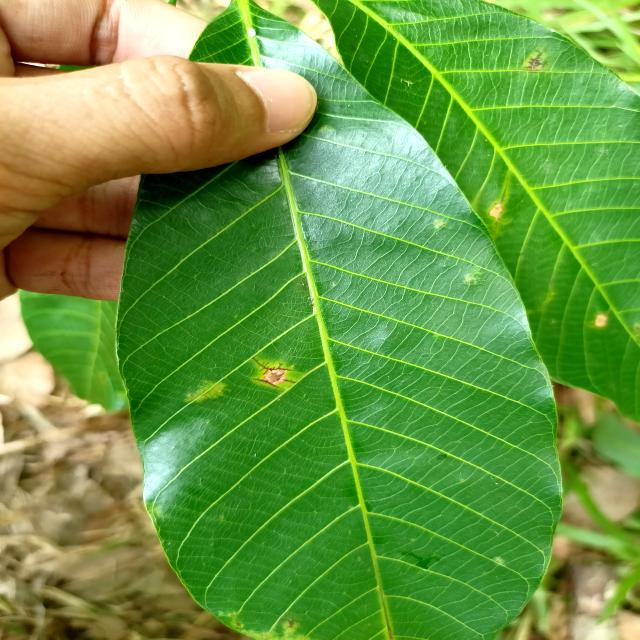Corynespora: (251, 358, 291, 374), (253, 377, 279, 388), (283, 378, 296, 384)
Leaf-Blight: (264, 370, 287, 384)
